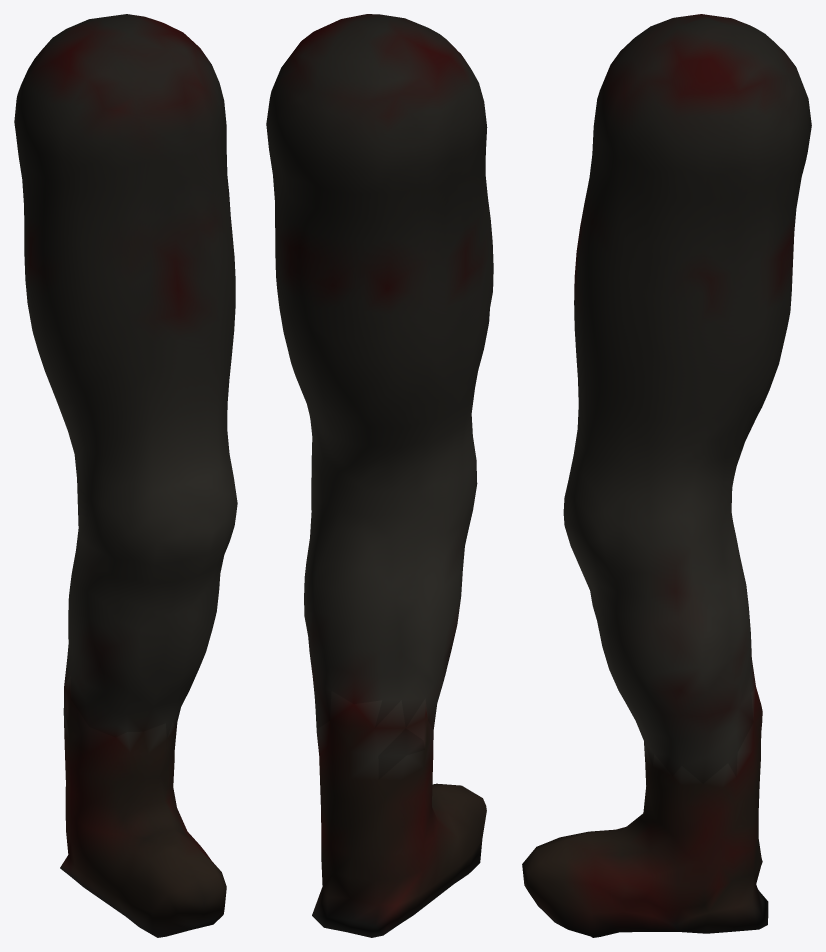
Rendered from butcher_leg_xlo.glb.
3 views of the same model, side by side, from view 1: azimuth 30°, elevation 25°; view 2: azimuth 150°, elevation 25°; view 3: azimuth 270°, elevation 25° (orthographic). The views are drawn at different scales.
Parts seen in each view (by area): view 1: butcher_leg; view 2: butcher_leg; view 3: butcher_leg.
Boxes of the visible parts, x1,y1,x2,y2 form: butcher_leg: (14, 14, 237, 937); butcher_leg: (266, 14, 493, 937); butcher_leg: (522, 14, 811, 937).
Size of the model in its own units: 0.2806 by 1.24 by 0.3643.
